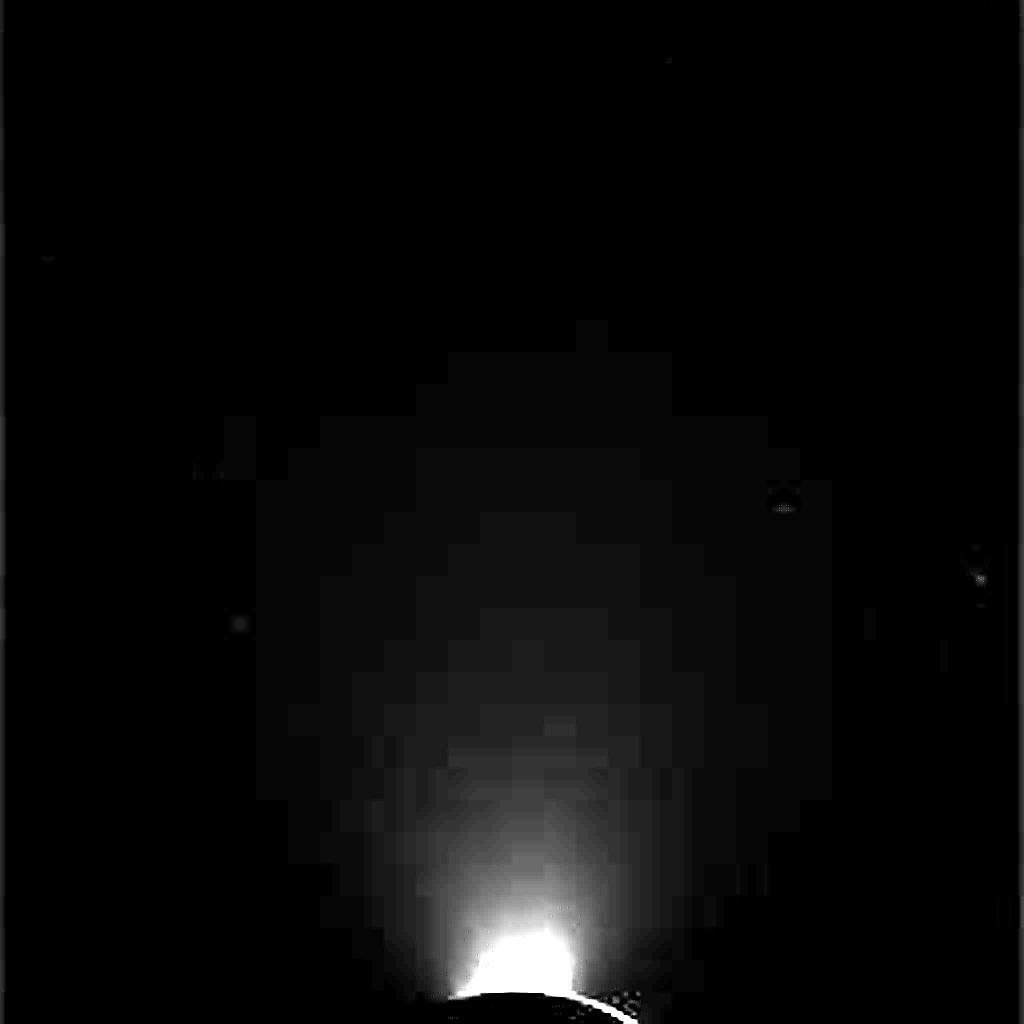plumes: (464, 928, 575, 994)
